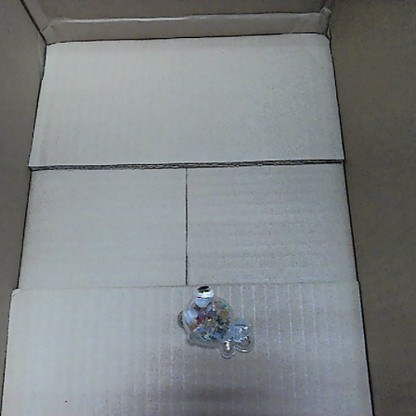whitefish: (175, 282, 257, 357)
